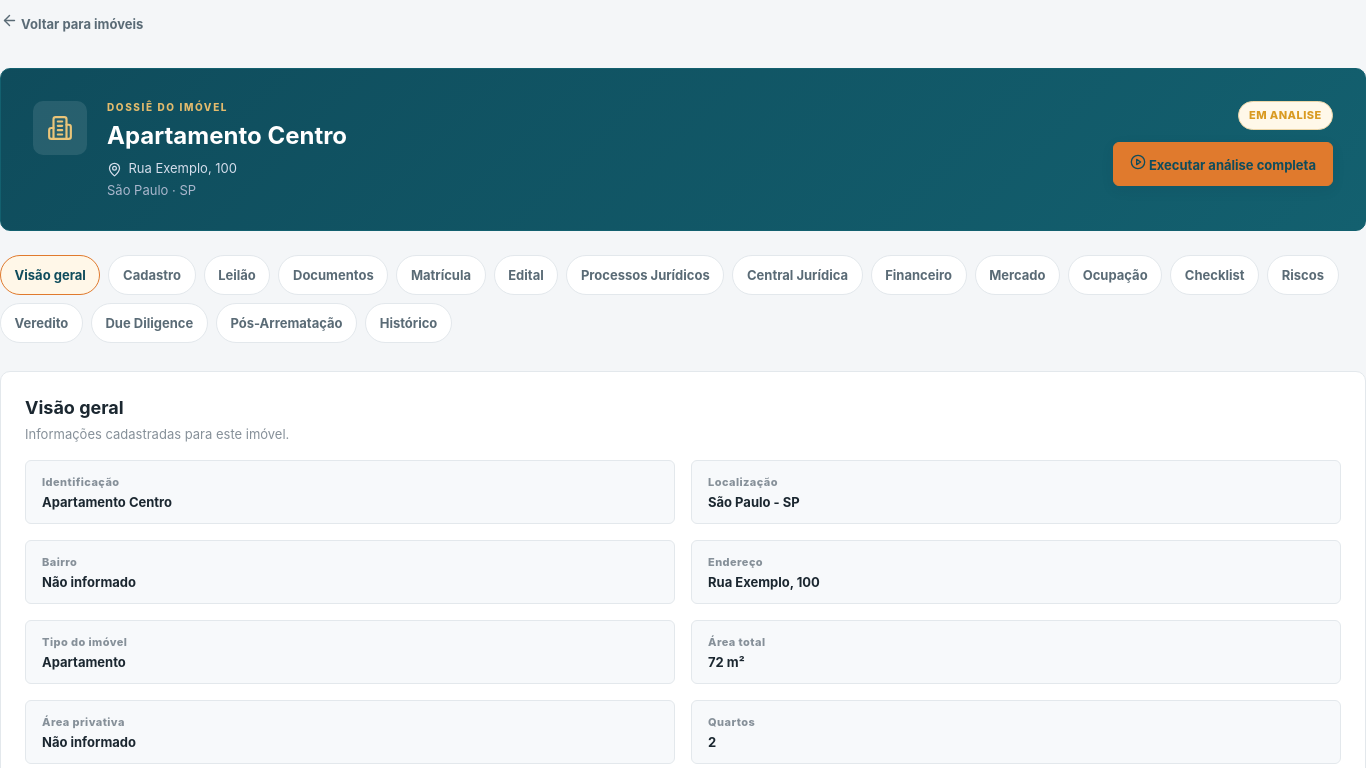
Test: PropertyDetailPage › abre a seção Matrícula real dentro do imóvel
expect the heading "Apartamento Centro" is shown: met, box [107,121,347,150]
Click the button "Matrícula". click: coordinates (441, 275)
box: [396,255,486,295]
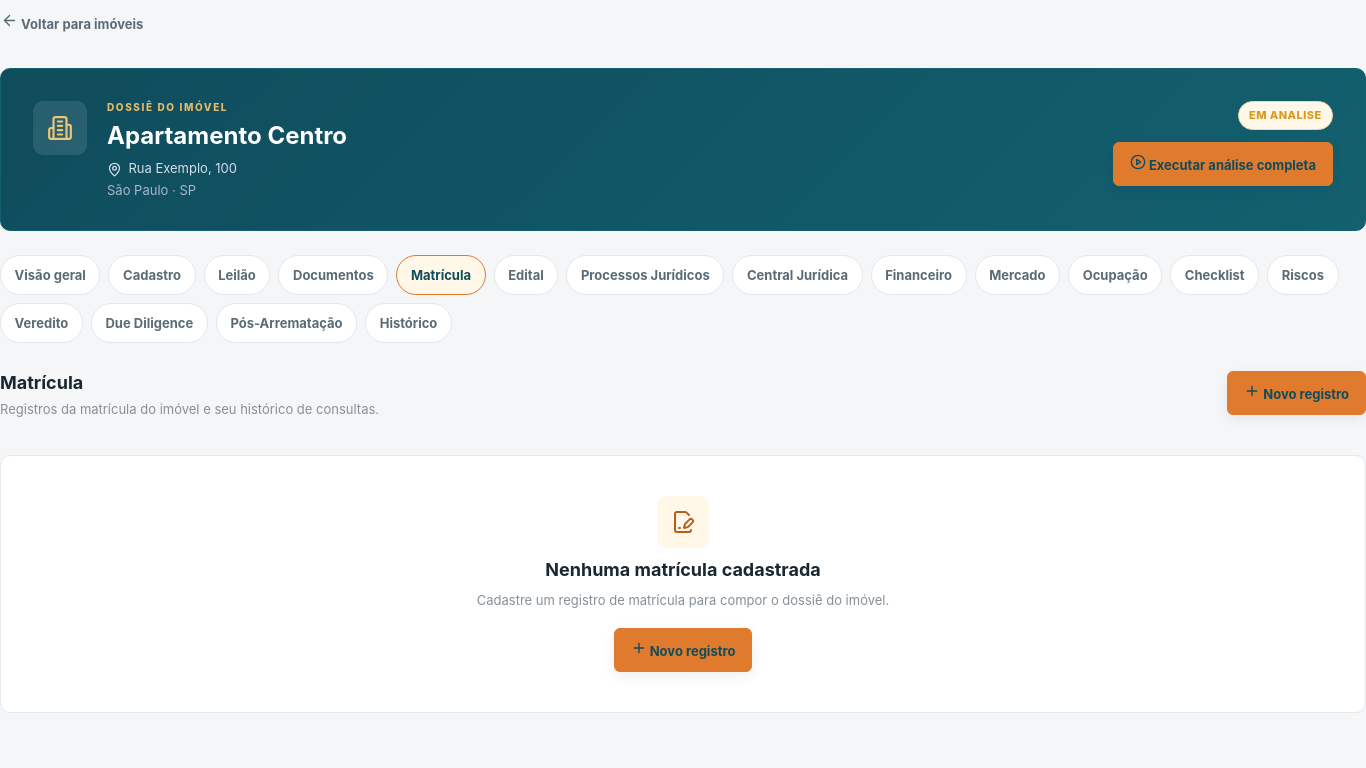
expect the heading "Nenhuma matrícula cadastrada" is shown: met, box [545,559,821,580]
